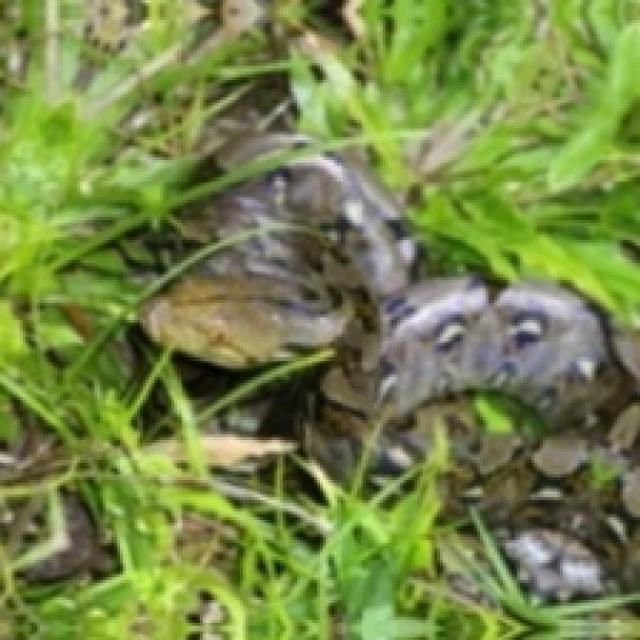reticulated python: (140, 157, 637, 474)
